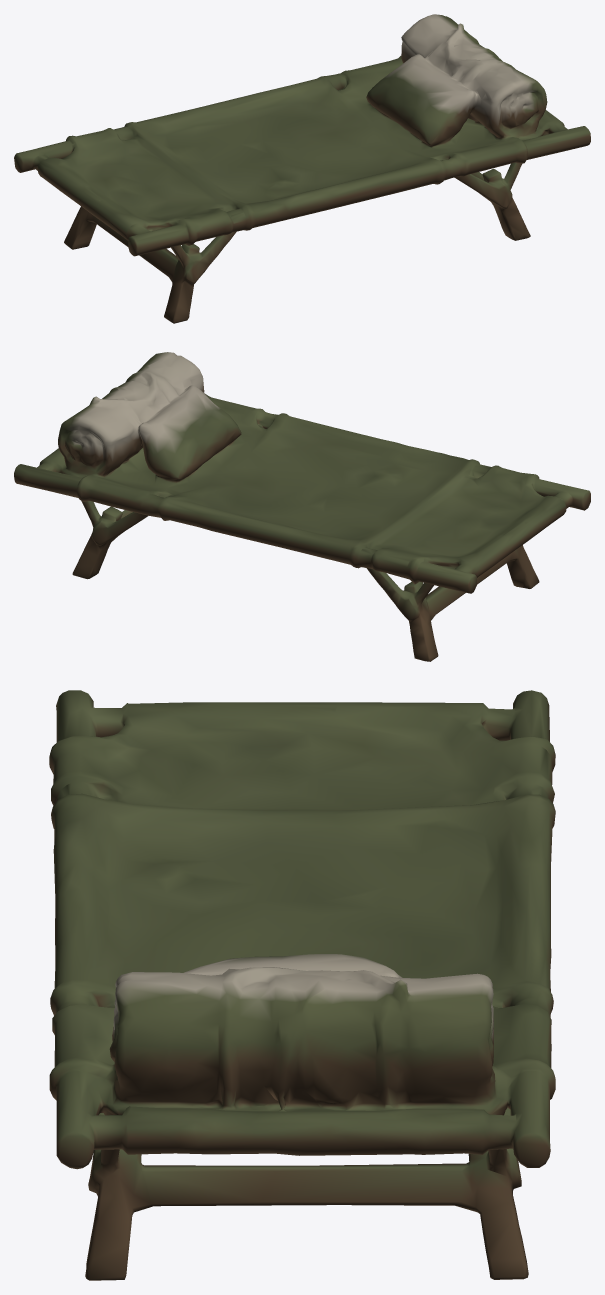
The model's file is cot.glb.
The picture shows the model from 3 angles, top to bottom: view 1: azimuth 30°, elevation 25°; view 2: azimuth 150°, elevation 25°; view 3: azimuth 270°, elevation 25°; orthographic projection. The views are drawn at different scales.
Parts seen in each view (by area): view 1: geometry_0; view 2: geometry_0; view 3: geometry_0.
Boxes of the visible parts, x1,y1,x2,y2 form: geometry_0: (14,14,590,323); geometry_0: (14,352,590,661); geometry_0: (49,690,555,1280).
Size of the model in its own units: 6.14 by 2 by 2.95.
